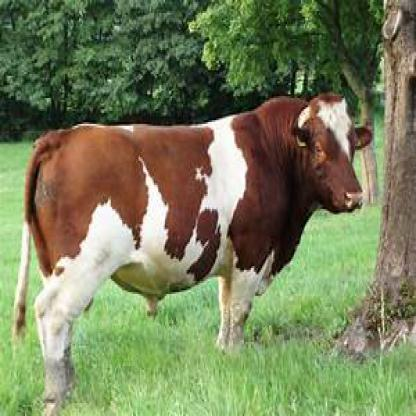cow: (11, 91, 374, 408)
